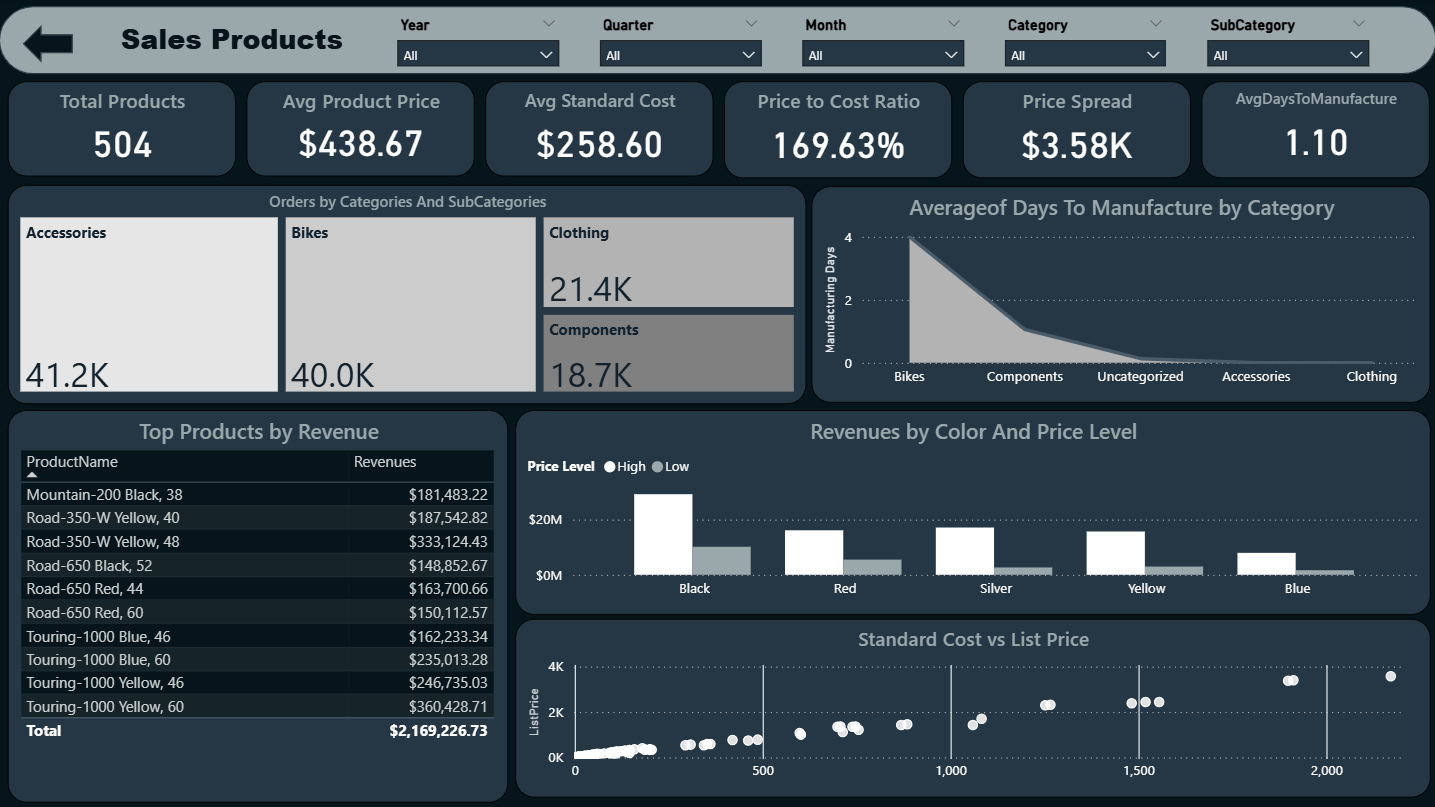

Layout of this report page (visuals, bound fields, positions):
{"tool":"powerbi","page":{"name":"🛍️ Product","canvas":[1280,720],"ordinal":4},"visuals":[{"type":"shape","box":[0,5.8,1280.2,60.5],"z":0},{"type":"shape","box":[21.2,22.3,44.5,33.4],"z":1000},{"type":"textbox","box":[103.5,12.2,248.2,46.8],"z":2000},{"type":"card","title":"Avg Product Price","fields":{"Values":["measures_.Average List Price"]},"box":[220.3,72.7,203,84.9],"z":3000},{"type":"card","title":"Avg Standard Cost","fields":{"Values":["measures_.Average Cost"]},"box":[432.9,72.7,203,84.9],"z":4000},{"type":"card","title":"AvgDaysToManufacture","fields":{"Values":["measures_.Avg Days to Manufacture"]},"box":[1071,72.1,203,86],"z":5000},{"type":"card","title":"Total Products","fields":{"Values":["measures_.Total Products"]},"box":[7.6,72.7,203,84.9],"z":6000},{"type":"treemap","title":"Orders by Categories And SubCategories","fields":{"Group":["Product_Category.CategoryName","Product_SubCategory.SubCategoryName"],"Values":["measures_.orders"]},"box":[8.1,165.1,711,195.3],"z":7000},{"type":"card","title":"Price to Cost Ratio","fields":{"Values":["measures_.Price to Cost Ratio"]},"box":[645.6,72.1,203,86],"z":8000},{"type":"card","title":"Price Spread","fields":{"Values":["measures_.Price Spread"]},"box":[858.3,72.1,203,86],"z":9000},{"type":"tableEx","title":"Top Products by Revenue ","fields":{"Values":["Dim_Product.ProductName","measures_.Rev_"]},"box":[8.2,365,446,349.9],"z":10000},{"type":"scatterChart","title":"Standard Cost vs List Price","fields":{"X":["Dim_Product.StandardCost"],"Y":["Dim_Product.ListPrice"]},"box":[459.3,551.2,815.1,159.3],"z":11000},{"type":"stackedAreaChart","title":"Averageof Days To Manufacture by Category","fields":{"Category":["Product_Category.CategoryName"],"Y":["Avg(Dim_Product.DaysToManufacture)"]},"box":[723.3,166.3,551.2,193],"z":12000},{"type":"slicer","fields":{"Values":["Date.Year"]},"box":[342.9,8.1,167.4,54.7],"z":13000},{"type":"slicer","fields":{"Values":["Date.Quarter"]},"box":[523.3,8.1,167.4,54.7],"z":14000},{"type":"slicer","fields":{"Values":["Date.Month"]},"box":[703.7,8.1,167.4,54.7],"z":15000},{"type":"clusteredColumnChart","title":"Revenues by Color And Price Level","fields":{"Category":["Dim_Product.Color"],"Y":["measures_.Rev_"],"Series":["Dim_Product.Price Level"]},"box":[459.3,365.1,815.1,182.6],"z":16000},{"type":"slicer","fields":{"Values":["Product_Category.CategoryName"]},"box":[884.2,8.2,167,54.5],"z":17000},{"type":"slicer","fields":{"Values":["Product_SubCategory.SubCategoryName"]},"box":[1064.1,8.1,167.4,54.7],"z":18000}]}

Visuals, with their boxes in screenshot pixels (x1, y1, x2, y2), scaled from the page's 1280x720 canvas onto the 1435x807 screenshot:
shape: (0,7,1434,74)
shape: (24,25,74,62)
textbox: (116,14,394,66)
"Avg Product Price" card: (247,81,475,177)
"Avg Standard Cost" card: (485,81,713,177)
"AvgDaysToManufacture" card: (1201,81,1428,177)
"Total Products" card: (9,81,236,177)
"Orders by Categories And SubCategories" treemap: (9,185,806,404)
"Price to Cost Ratio" card: (724,81,951,177)
"Price Spread" card: (962,81,1190,177)
"Top Products by Revenue " tableEx: (9,409,509,801)
"Standard Cost vs List Price" scatterChart: (515,618,1429,796)
"Averageof Days To Manufacture by Category" stackedAreaChart: (811,186,1429,403)
slicer - Date.Year: (384,9,572,70)
slicer - Date.Quarter: (587,9,774,70)
slicer - Date.Month: (789,9,977,70)
"Revenues by Color And Price Level" clusteredColumnChart: (515,409,1429,614)
slicer - Product_Category.CategoryName: (991,9,1178,70)
slicer - Product_SubCategory.SubCategoryName: (1193,9,1381,70)
